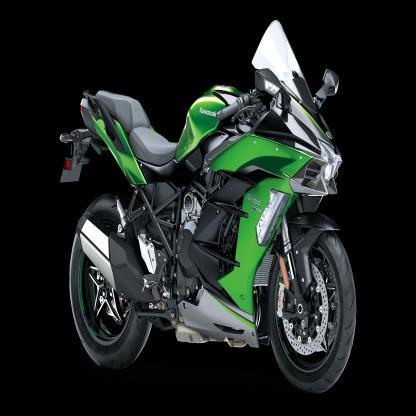Motorcycle: (54, 15, 362, 398)
